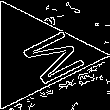M_SW: (0, 22, 76, 88)
